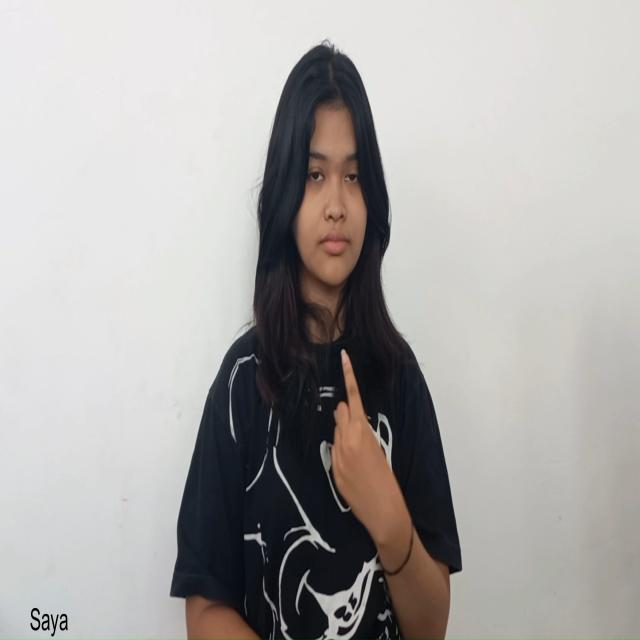Saya -BISINDO-: (326, 341, 402, 561)
